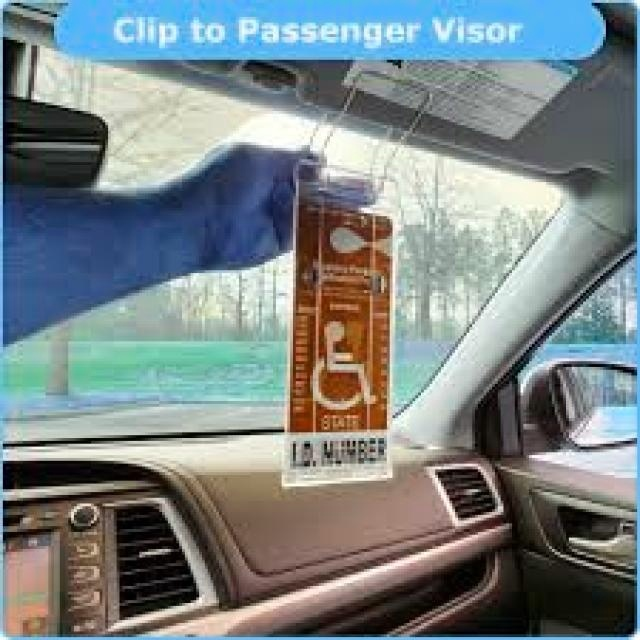ISA: (308, 316, 379, 412)
